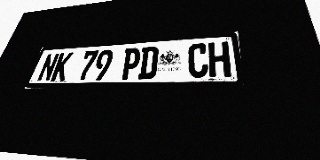7: (76, 50, 99, 81)
9: (92, 49, 114, 80)
C: (188, 43, 208, 78)
D: (137, 46, 159, 79)
H: (208, 41, 231, 77)
K: (50, 52, 74, 81)
N: (36, 53, 60, 82)
P: (120, 47, 142, 80)
